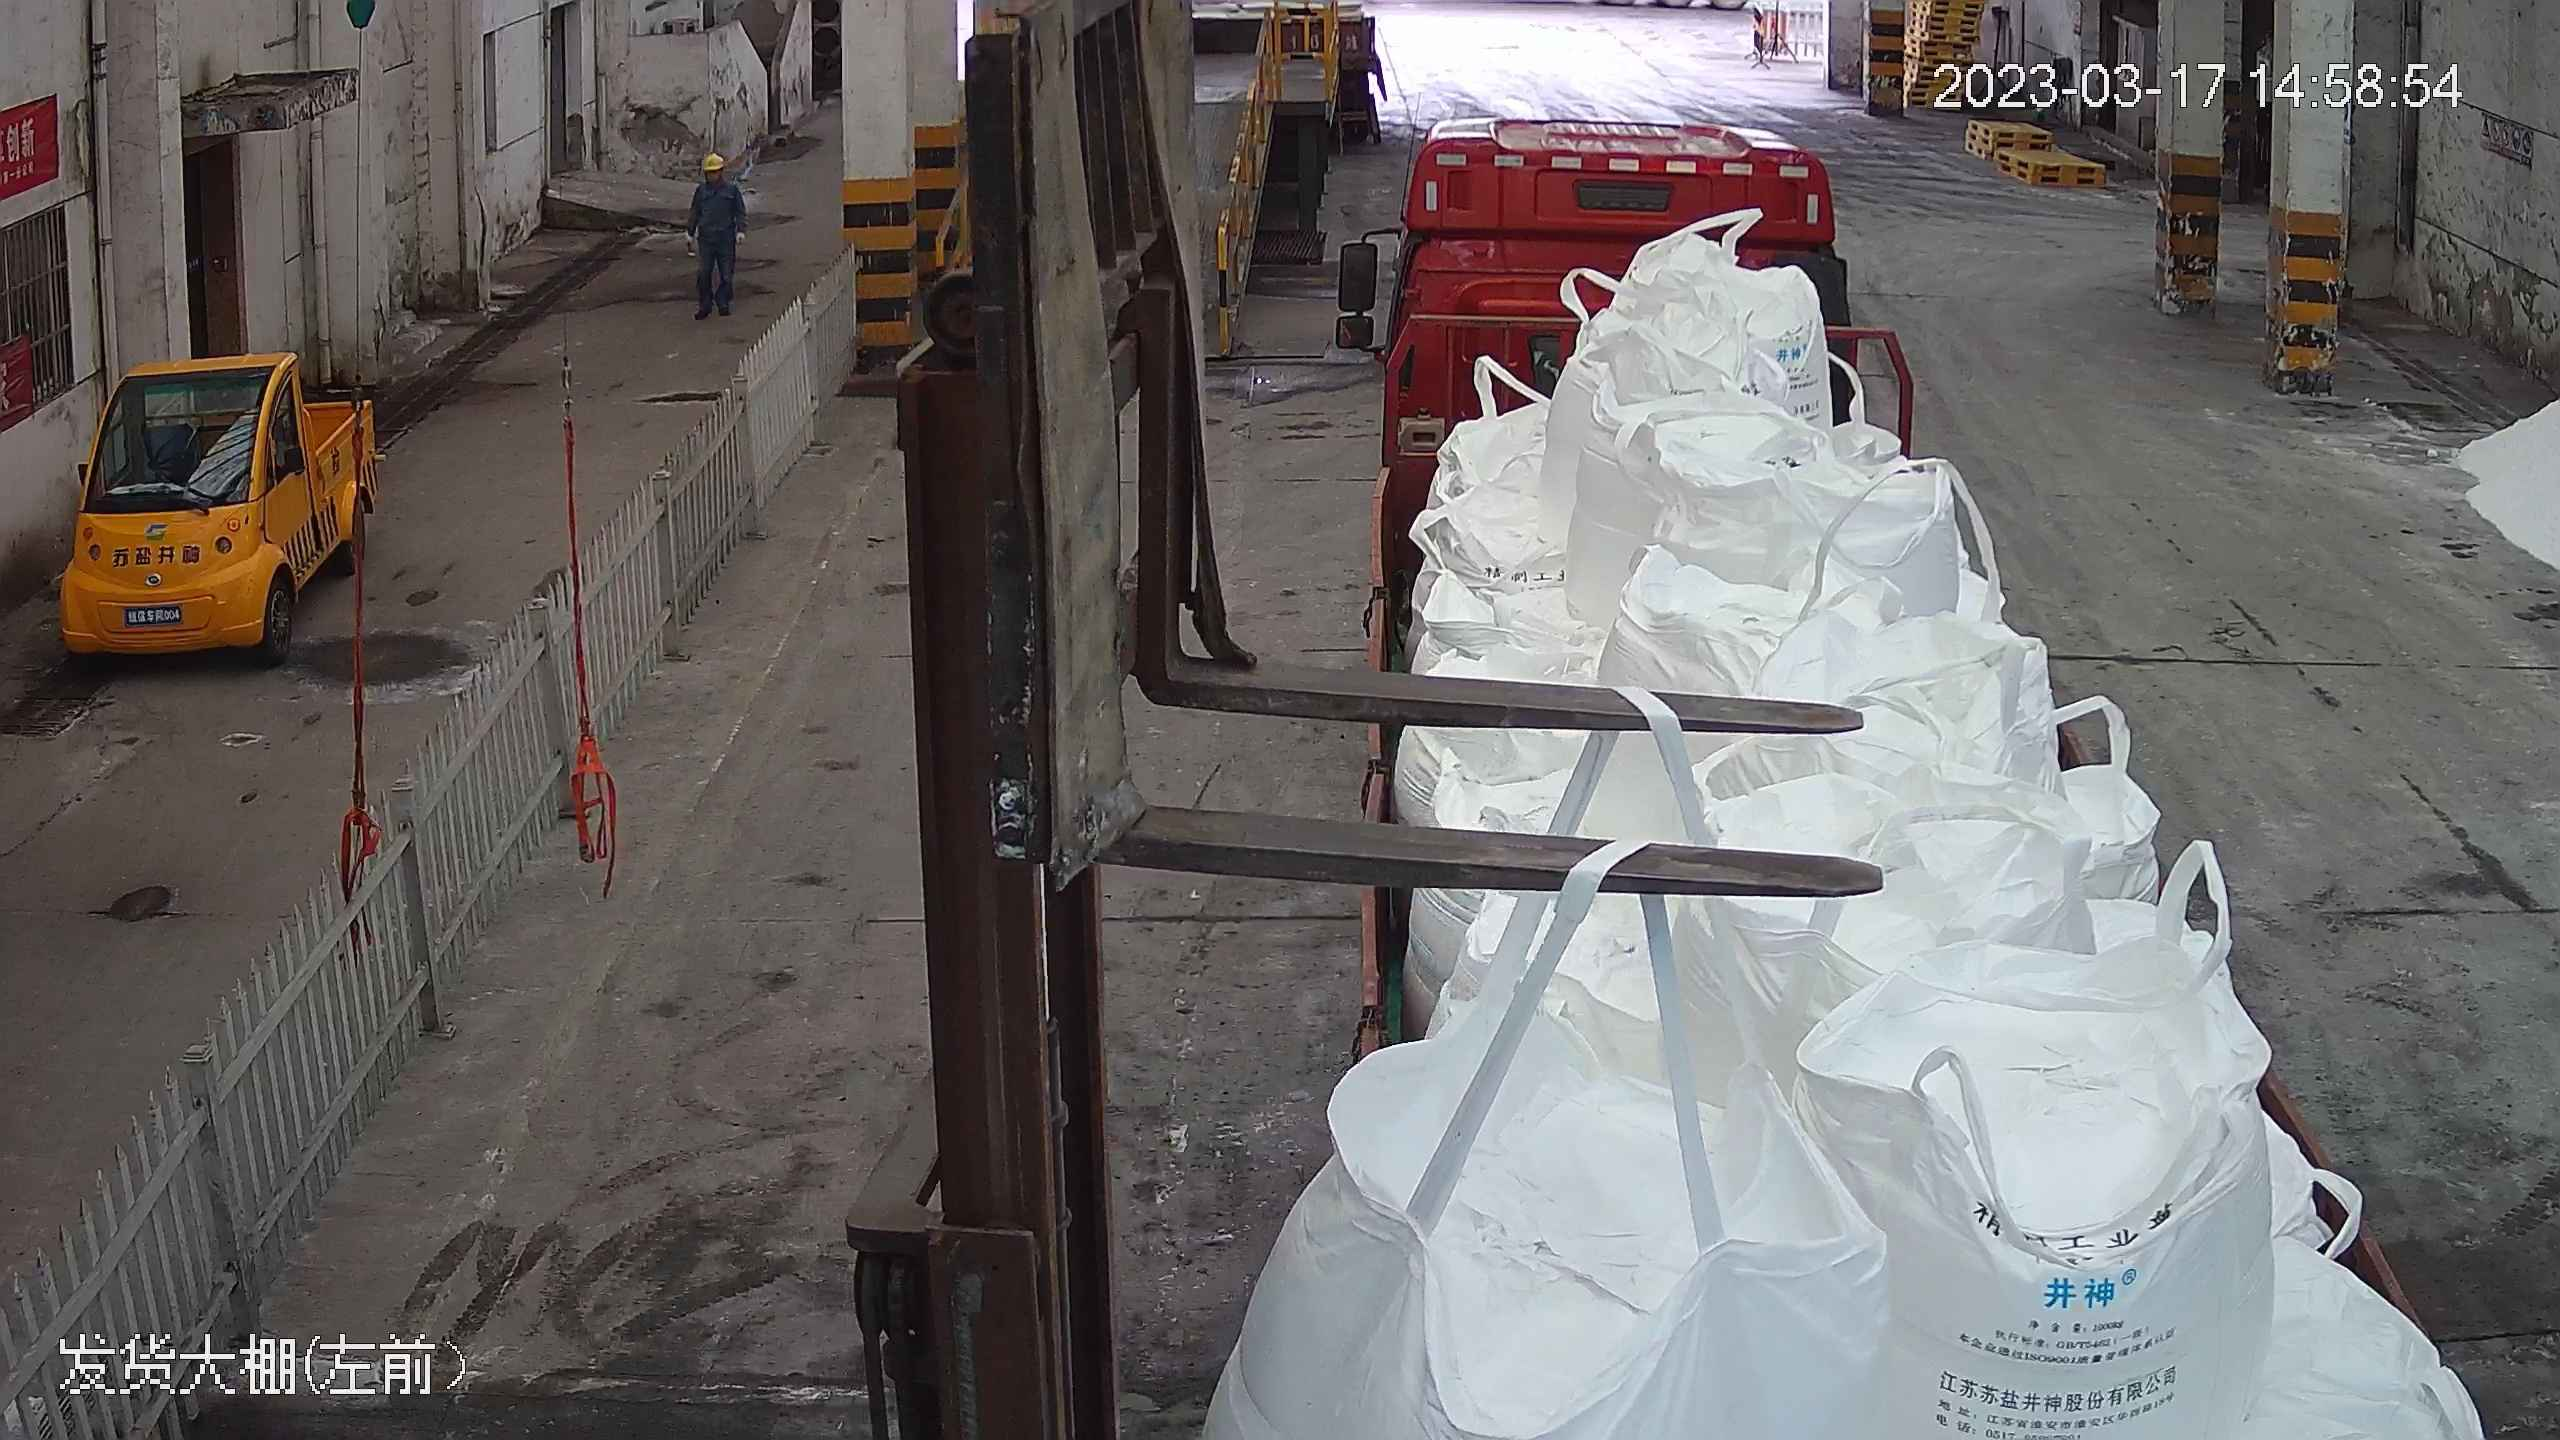head: (688, 147, 743, 212)
helmet: (696, 150, 728, 176)
people: (681, 147, 749, 322)
truck: (1278, 67, 2552, 1440)
